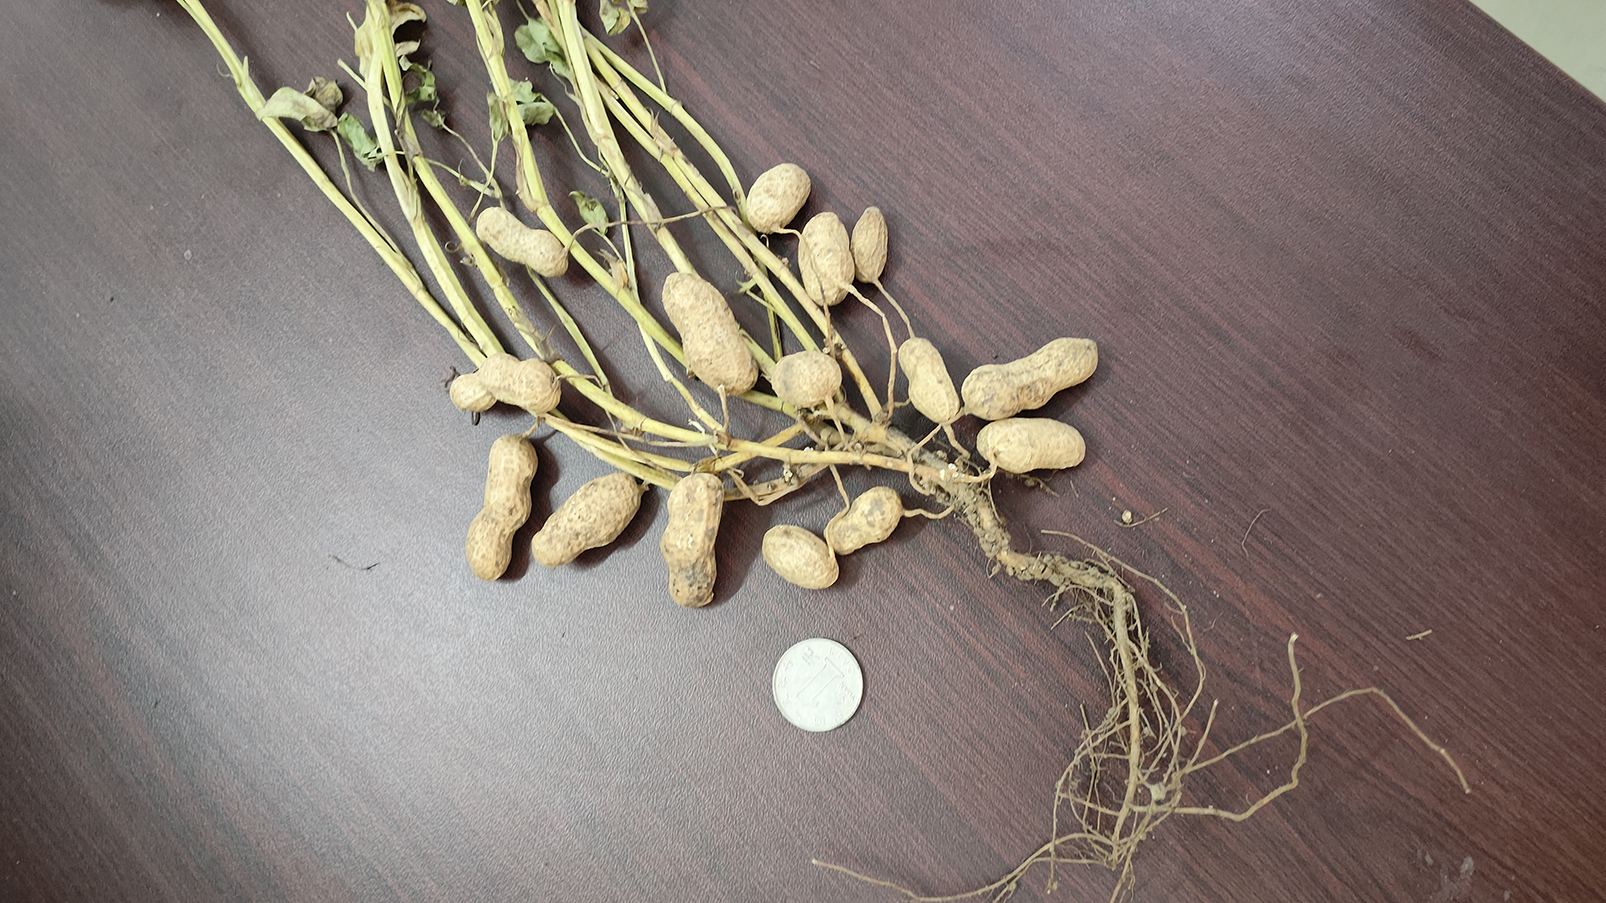h: (662, 272, 754, 394), (962, 337, 1098, 420), (464, 434, 540, 580), (534, 473, 641, 570), (662, 470, 726, 603), (448, 355, 561, 417), (477, 205, 566, 276), (975, 418, 1088, 473), (758, 523, 841, 590), (824, 484, 902, 551), (898, 337, 960, 420), (745, 162, 812, 232), (769, 351, 841, 404)
